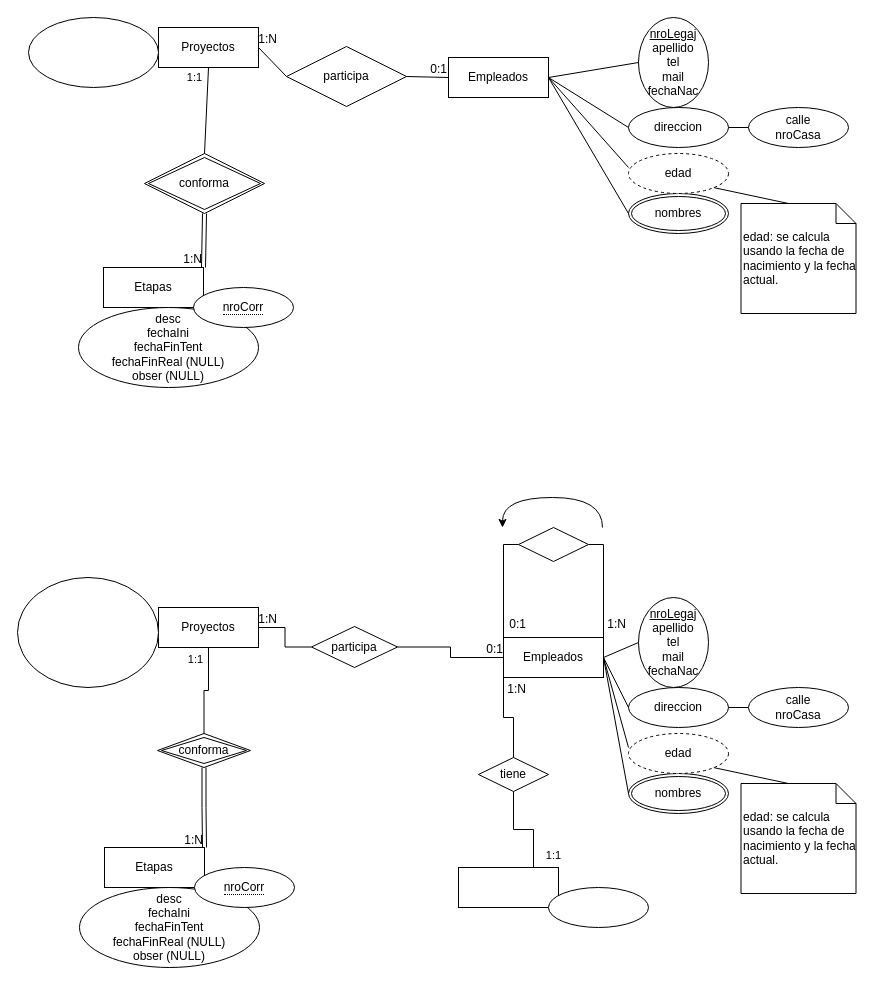
Image size: 874x985. Some labels were removed from this diagram. The shapes that lost their labels are listed below. From the top down, each one's centre as x and y in pixels, then its label:
At point 93,52: "nroCorr desc fechaIni fechaFin".
At point 553,544: "depende".
At point 87,632: "nroCorr desc fechaIni fechaFinTent fechaFinReal (NULL) obser (NULL)".
At point 508,887: "Categoria".
At point 598,907: "codAlf desc".
